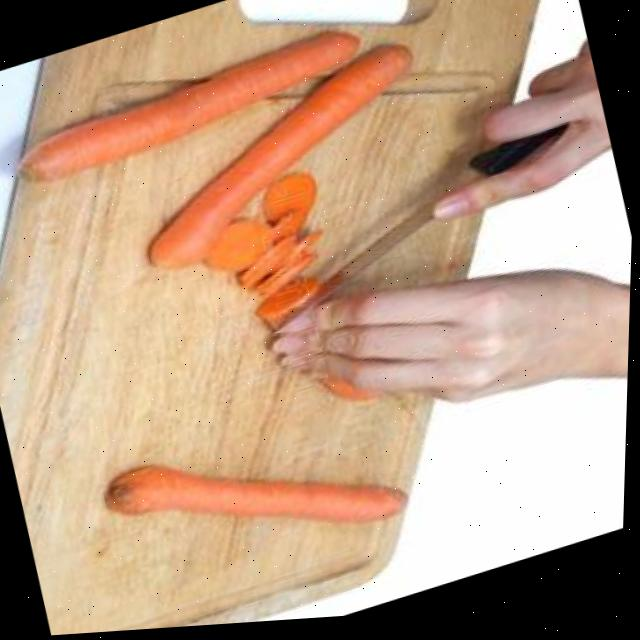Wet: (110, 42, 452, 287), (94, 390, 419, 608), (0, 25, 374, 199)
